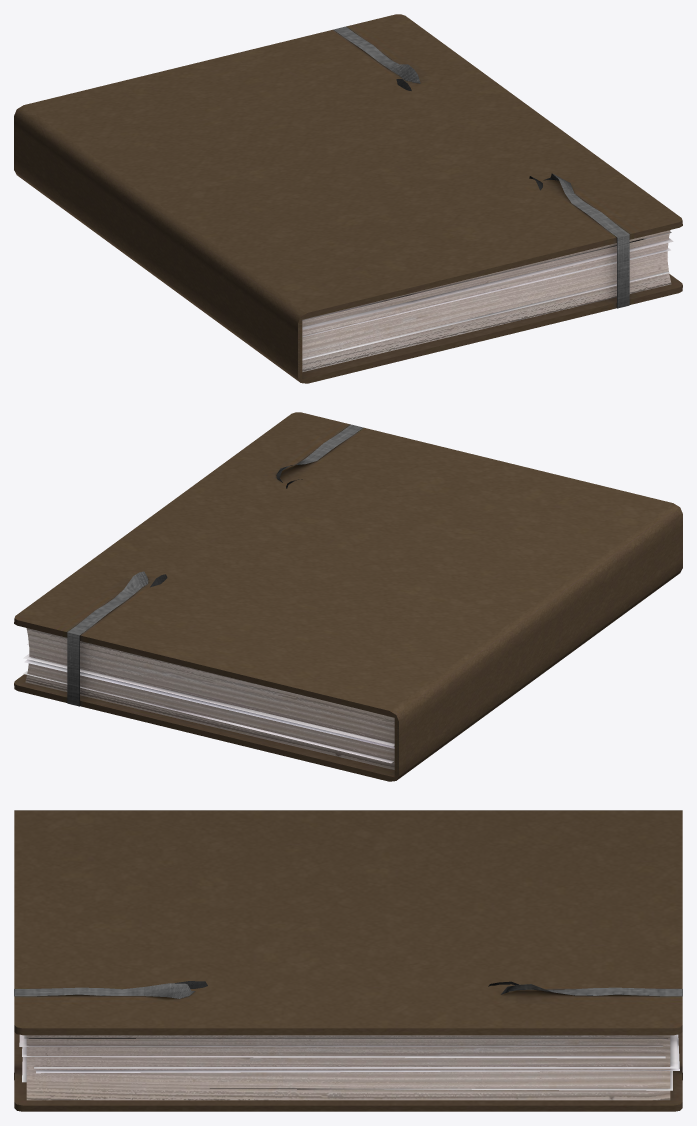
File: books.fbx
3 renders of one model, top to bottom at view 1: azimuth 30°, elevation 25°; view 2: azimuth 150°, elevation 25°; view 3: azimuth 270°, elevation 25°, orthographic. The views are drawn at different scales.
Visible parts, largest first — view 1: ksiazka brazowa; view 2: ksiazka brazowa; view 3: ksiazka brazowa.
Part boxes in pixels (x1,y1,x2,y2): ksiazka brazowa: [14, 14, 682, 383]; ksiazka brazowa: [14, 412, 682, 781]; ksiazka brazowa: [14, 810, 682, 1111].
Size of the model in its own units: 18.63 by 3.71 by 23.61.
